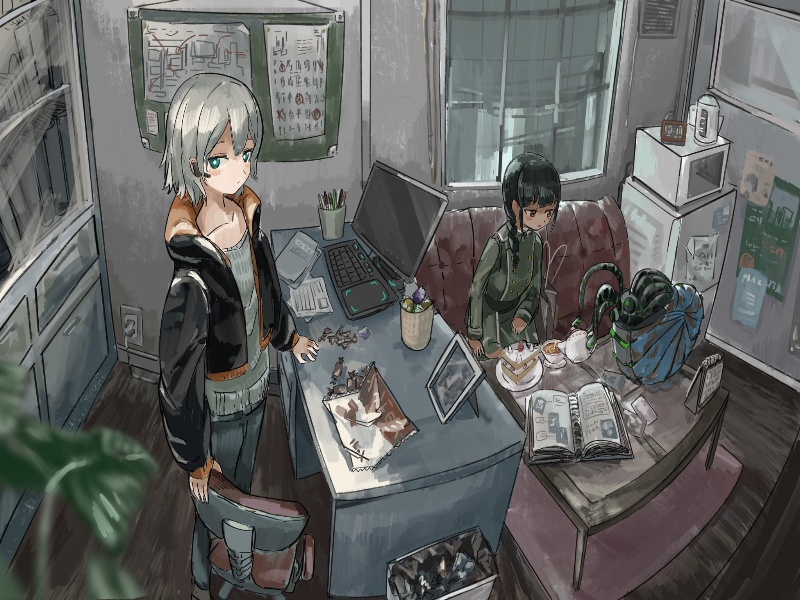person: (180, 120, 261, 204), (506, 192, 562, 237)
